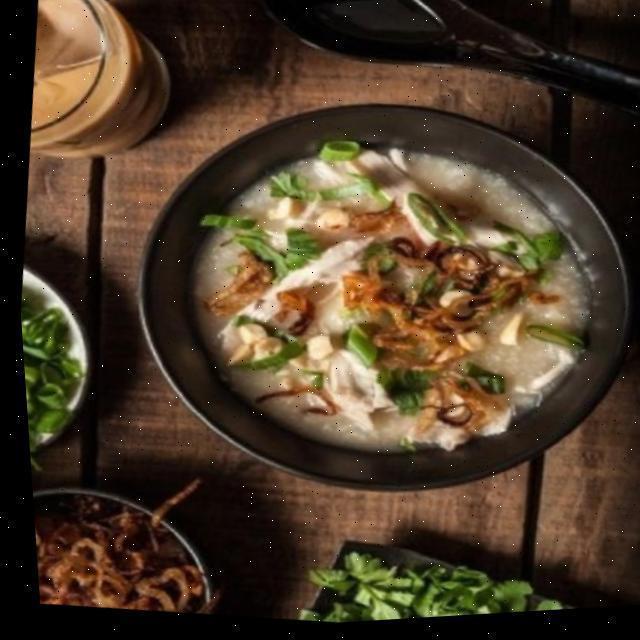bubur ayam: (158, 108, 620, 488)
mangkuk: (97, 60, 640, 533), (32, 470, 230, 624), (18, 261, 108, 467)
